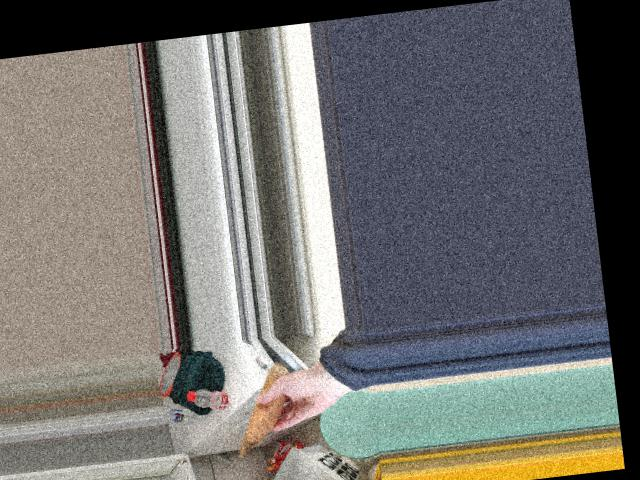sweet_potato: (237, 383, 290, 436)
